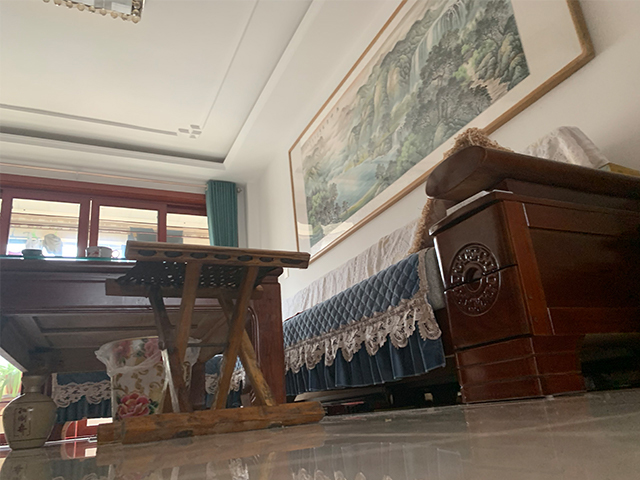sofa: (281, 121, 639, 408)
stool: (94, 239, 325, 444)
table: (1, 254, 285, 442)
trashcan: (94, 335, 202, 423)
